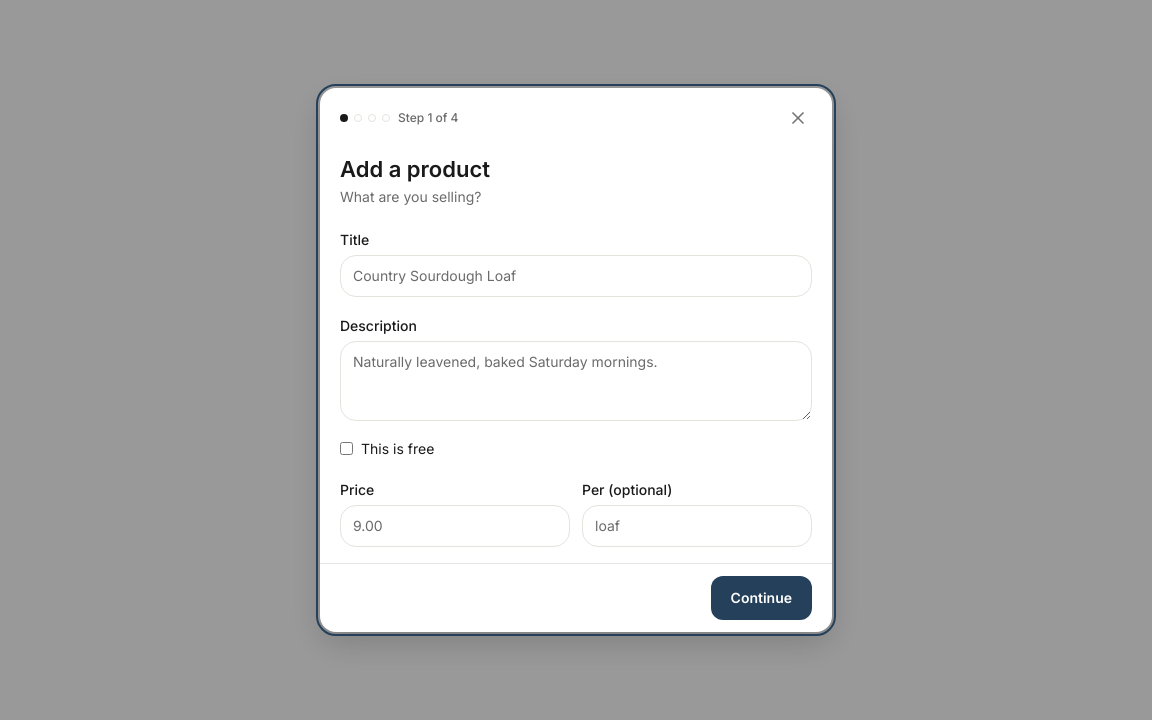
Test: T078 — ProductComposer step 1 (details) › hides the price input and requires no price when Free is toggled
Type "Free starter" into the field with test id "product-title-input". click: x=576, y=276
box: top-left (340, 255), bottom-right (812, 297)
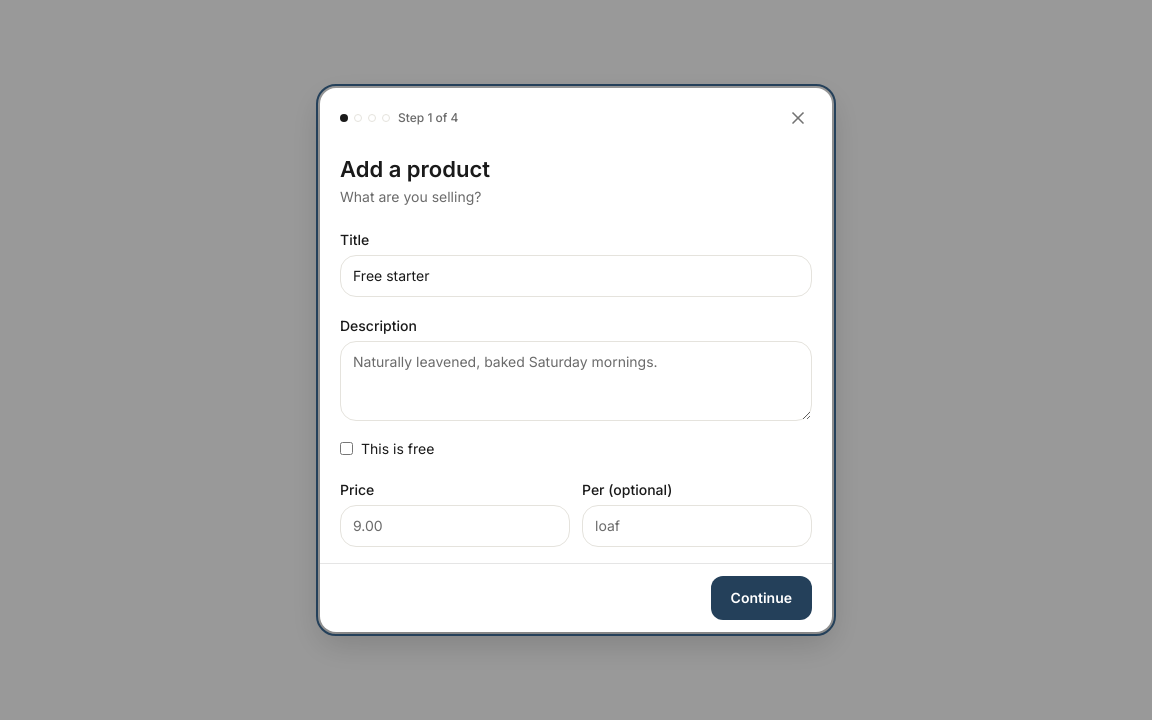
Type "A gift." into the text box with test id "product-description-input". click: x=576, y=381
box: top-left (340, 341), bottom-right (812, 421)
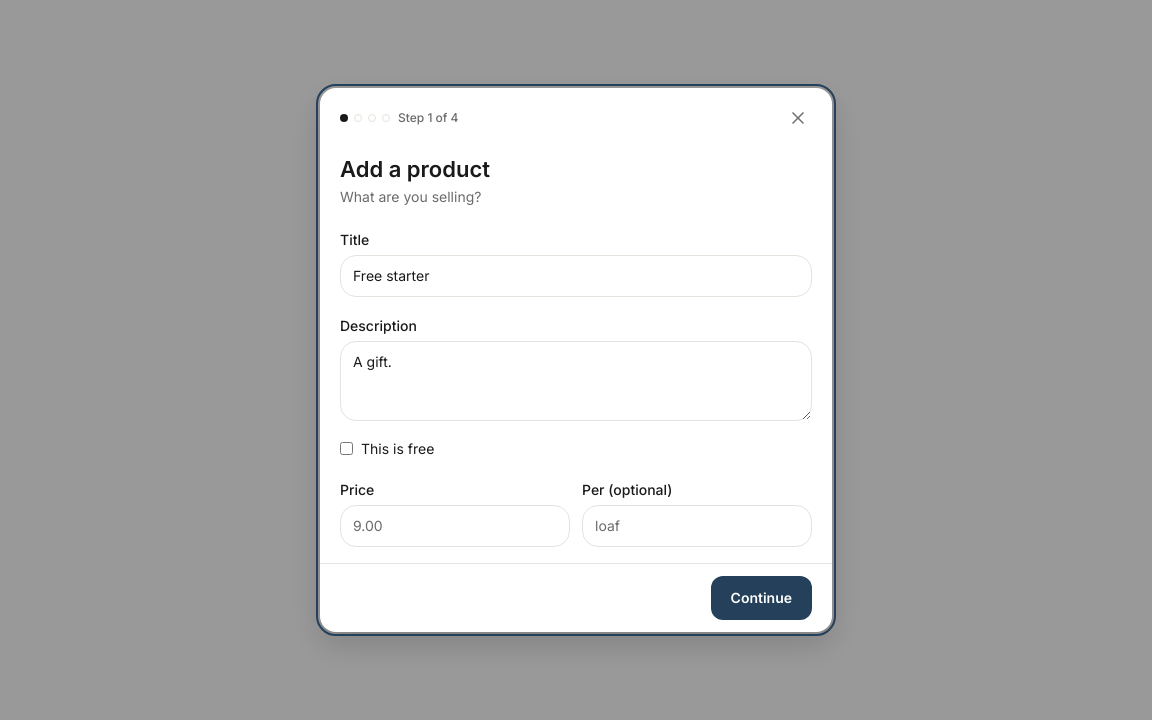
Click the checkbox with test id "product-free-toggle". click: x=346, y=449
box: top-left (340, 442), bottom-right (353, 455)
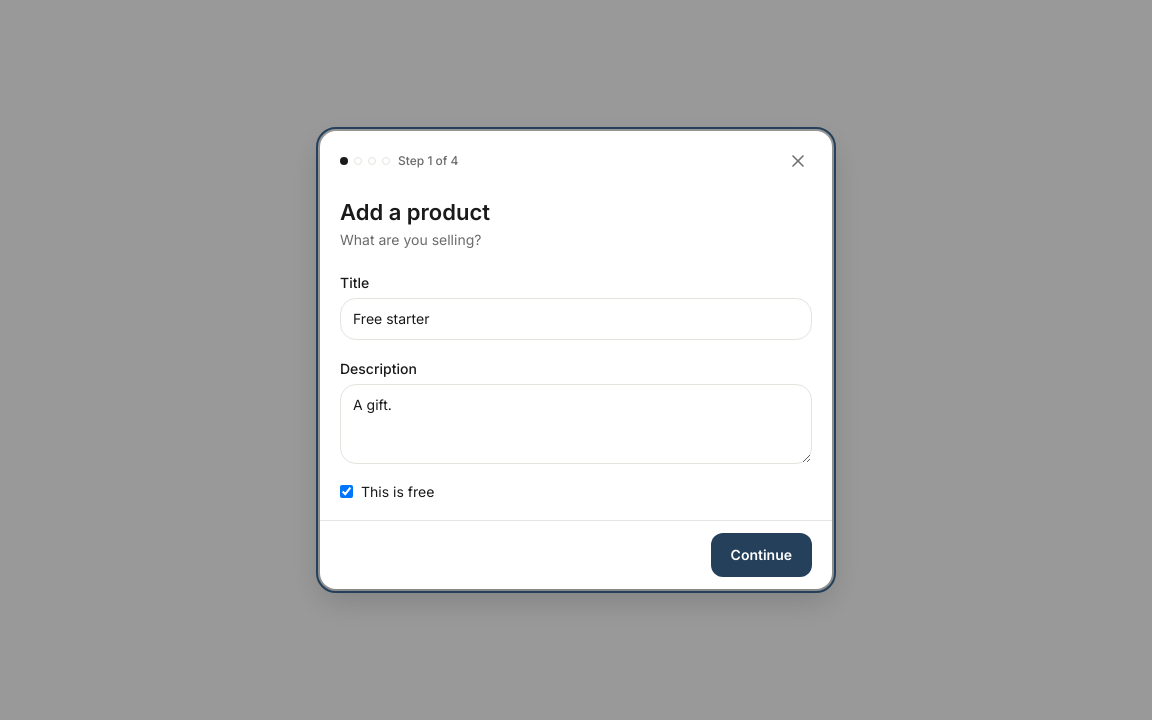
Check: the field with test id "product-price-input" is gone
Click the button "Continue". click: x=761, y=555
box: top-left (711, 533), bottom-right (812, 577)
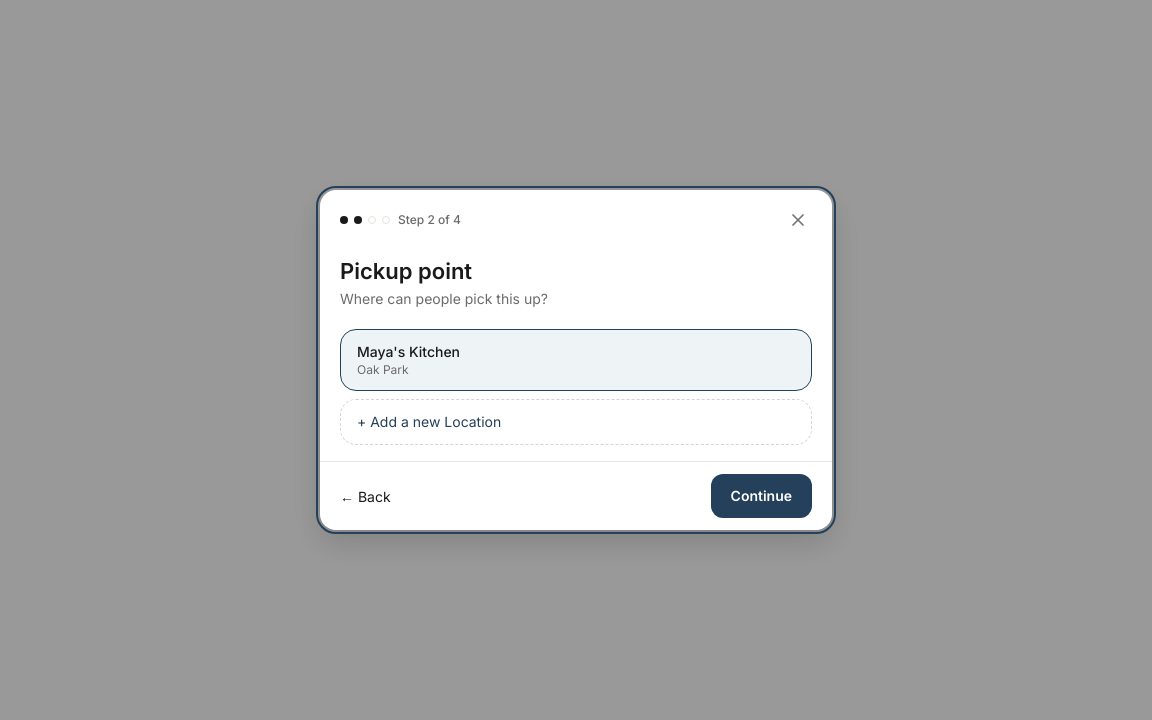
Check: the list with test id "product-pickup-options" is shown, box top-left (340, 329), bottom-right (812, 445)
